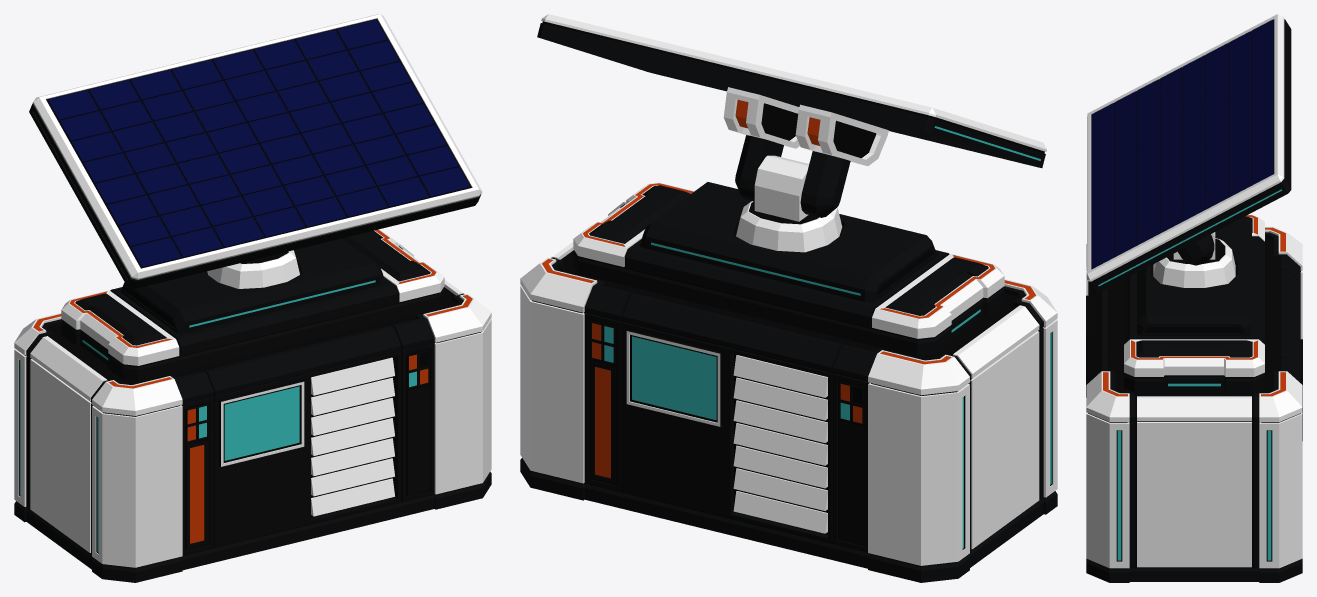
File: SM_SolarPanel_T1.obj
The picture shows the model from 3 angles, left to right: view 1: azimuth 30°, elevation 25°; view 2: azimuth 150°, elevation 25°; view 3: azimuth 270°, elevation 25°; orthographic projection. The views are drawn at different scales.
Parts seen in each view (by area): view 1: SM_SolarPanel_T1_Base, SM_SolarPanel_T1_Panel; view 2: SM_SolarPanel_T1_Base, SM_SolarPanel_T1_Panel, SM_SolarPanel_T1_Rotor; view 3: SM_SolarPanel_T1_Base, SM_SolarPanel_T1_Panel.
Part boxes in pixels (x1=…): SM_SolarPanel_T1_Base: x1=14, y1=229, x2=491, y2=582; SM_SolarPanel_T1_Panel: x1=29, y1=14, x2=482, y2=288; SM_SolarPanel_T1_Base: x1=520, y1=182, x2=1057, y2=582; SM_SolarPanel_T1_Panel: x1=537, y1=14, x2=1046, y2=217; SM_SolarPanel_T1_Rotor: x1=754, y1=155, x2=809, y2=221; SM_SolarPanel_T1_Base: x1=1086, y1=214, x2=1302, y2=582; SM_SolarPanel_T1_Panel: x1=1087, y1=14, x2=1291, y2=292.
Bounding box in the file's own units: 2 × 2.02 × 1.
